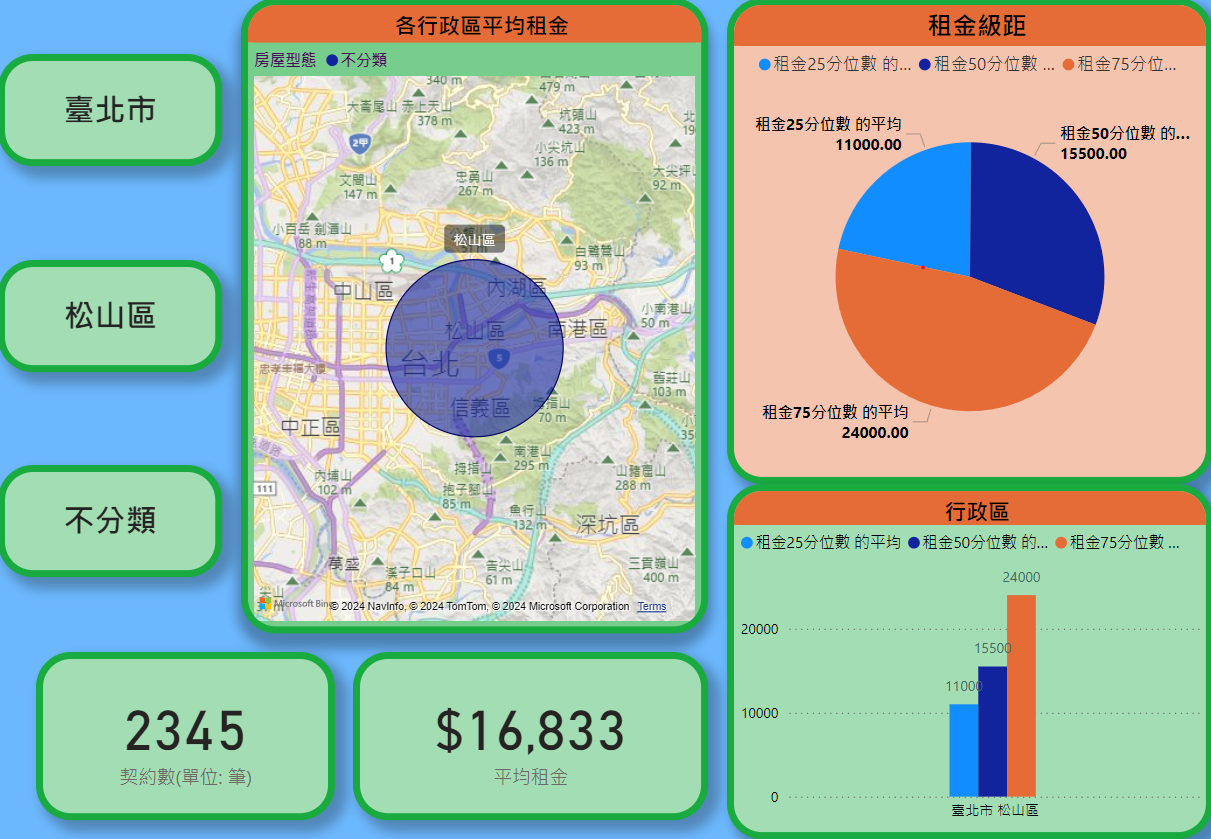

The page's visual inventory and layout, read from the dashboard file:
{"tool":"powerbi","page":{"name":"第 1 頁","canvas":[1280,720],"ordinal":0},"visuals":[{"type":"slicer","title":"請選擇縣市","fields":{"Values":["分房屋型態租金統計.縣市"]},"box":[16,96,192,104],"z":0},{"type":"slicer","title":"請選擇區域","fields":{"Values":["分房屋型態租金統計.行政區"]},"box":[16,256,192,104],"z":1000},{"type":"slicer","title":"房屋型態","fields":{"Values":["分房屋型態租金統計.房屋型態"]},"box":[16,432,192,104],"z":2000},{"type":"pieChart","title":"租金級距","fields":{"Y":["Avg(分房屋型態租金統計.租金25分位數)","Avg(分房屋型態租金統計.租金50分位數)","Avg(分房屋型態租金統計.租金75分位數)"]},"box":[864,0,416,416],"z":3000},{"type":"map","title":"各行政區平均租金","fields":{"Category":["分房屋型態租金統計.行政區","分房屋型態租金統計.縣市"],"Series":["分房屋型態租金統計.房屋型態"],"Size":["Avg(分房屋型態租金統計.平均租金)"]},"box":[448,0,400,544],"z":4000},{"type":"actionButton","box":[0,0,100,40],"z":5000},{"type":"clusteredColumnChart","title":"行政區","fields":{"Category":["分房屋型態租金統計.縣市","分房屋型態租金統計.行政區"],"Y":["Avg(分房屋型態租金統計.租金25分位數)","Avg(分房屋型態租金統計.租金50分位數)","Avg(分房屋型態租金統計.租金75分位數)"]},"box":[864,416,416,304],"z":6000},{"type":"card","fields":{"Values":["Avg(分房屋型態租金統計.平均租金)"]},"box":[544,560,304,144],"z":7000},{"type":"card","fields":{"Values":["Min(分房屋型態租金統計.房屋型態)"]},"box":[240,400,192,96],"z":8000},{"type":"card","fields":{"Values":["Sum(分房屋型態租金統計.契約數)"]},"box":[272,560,256,144],"z":9000},{"type":"card","fields":{"Values":["Min(分房屋型態租金統計.行政區)"]},"box":[240,224,192,96],"z":10000},{"type":"card","fields":{"Values":["Min(分房屋型態租金統計.縣市)"]},"box":[240,48,192,96],"z":11000},{"type":"actionButton","box":[48,576,128,64],"z":12000}]}

Visuals, with their boxes on the page's 1280x720 design canvas (x1, y1, x2, y2). These are canvas units, not pixel positions in the 1211x839 screenshot, which may show the page scaled, cropped or inside an application window:
"請選擇縣市" slicer: [left=16, top=96, right=208, bottom=200]
"請選擇區域" slicer: [left=16, top=256, right=208, bottom=360]
"房屋型態" slicer: [left=16, top=432, right=208, bottom=536]
"租金級距" pieChart: [left=864, top=0, right=1280, bottom=416]
"各行政區平均租金" map: [left=448, top=0, right=848, bottom=544]
actionButton: [left=0, top=0, right=100, bottom=40]
"行政區" clusteredColumnChart: [left=864, top=416, right=1280, bottom=720]
card - Avg(分房屋型態租金統計.平均租金): [left=544, top=560, right=848, bottom=704]
card - Min(分房屋型態租金統計.房屋型態): [left=240, top=400, right=432, bottom=496]
card - Sum(分房屋型態租金統計.契約數): [left=272, top=560, right=528, bottom=704]
card - Min(分房屋型態租金統計.行政區): [left=240, top=224, right=432, bottom=320]
card - Min(分房屋型態租金統計.縣市): [left=240, top=48, right=432, bottom=144]
actionButton: [left=48, top=576, right=176, bottom=640]
